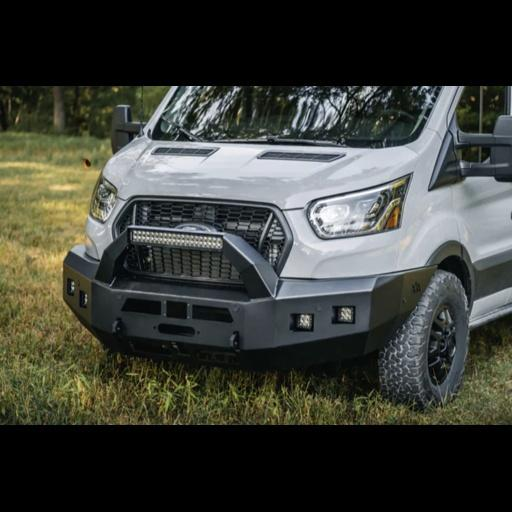van: (64, 86, 511, 406)
